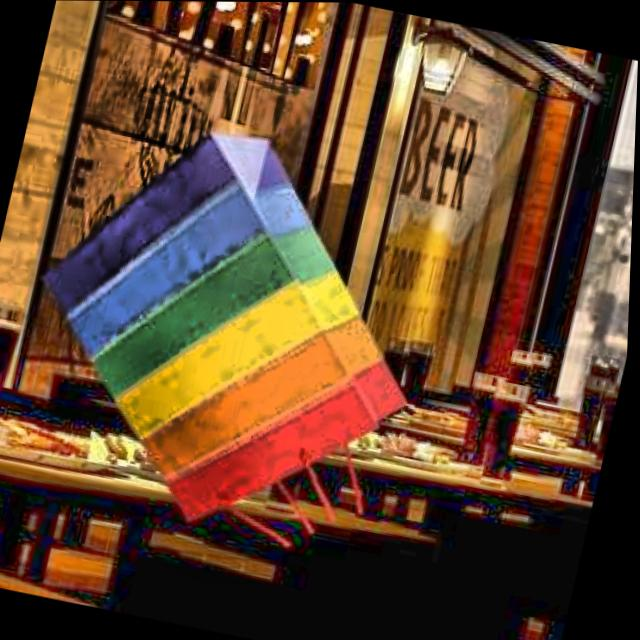Paper-bag: (0, 89, 475, 582)
